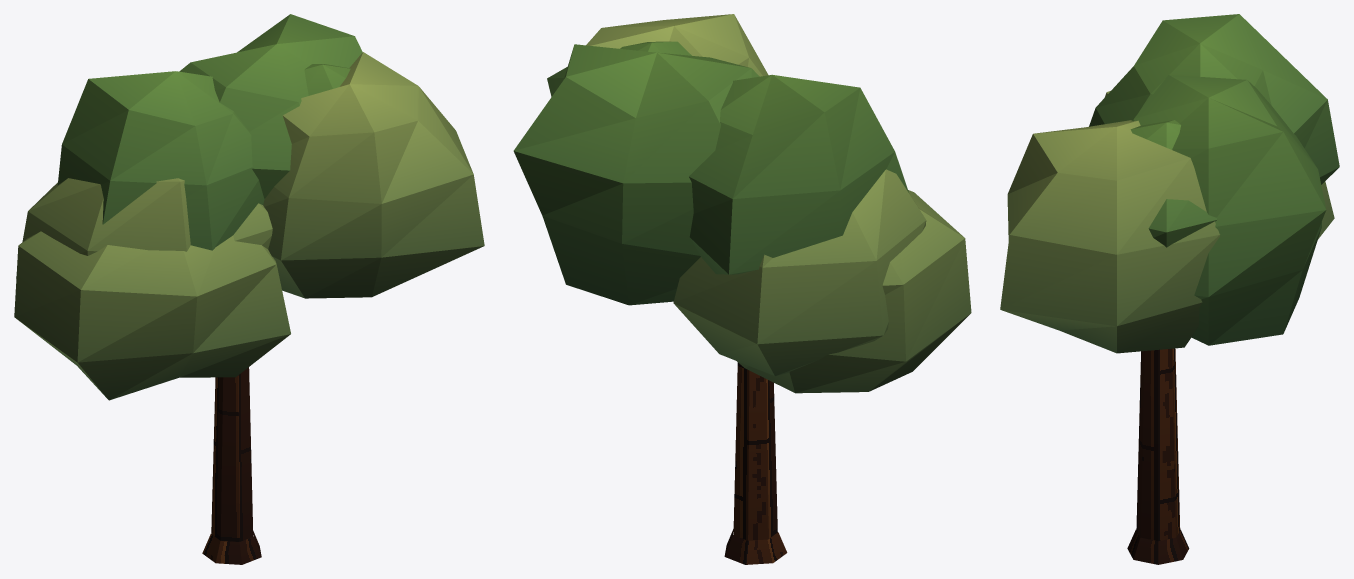
The model's file is oak_1_lowpoly.glb.
3 renders of one model, left to right at view 1: azimuth 30°, elevation 25°; view 2: azimuth 150°, elevation 25°; view 3: azimuth 270°, elevation 25°, orthographic. The views are drawn at different scales.
Visible parts, largest first — view 1: oak_1_lowpoly; view 2: oak_1_lowpoly; view 3: oak_1_lowpoly.
Part boxes in pixels (box(x1,y1,x2,y2)): oak_1_lowpoly: box(14, 14, 484, 564); oak_1_lowpoly: box(513, 14, 971, 564); oak_1_lowpoly: box(1000, 14, 1339, 564).
Size of the model in its own units: 5.31 by 6.12 by 3.85.
Materials: 2 (1 with a texture image).
